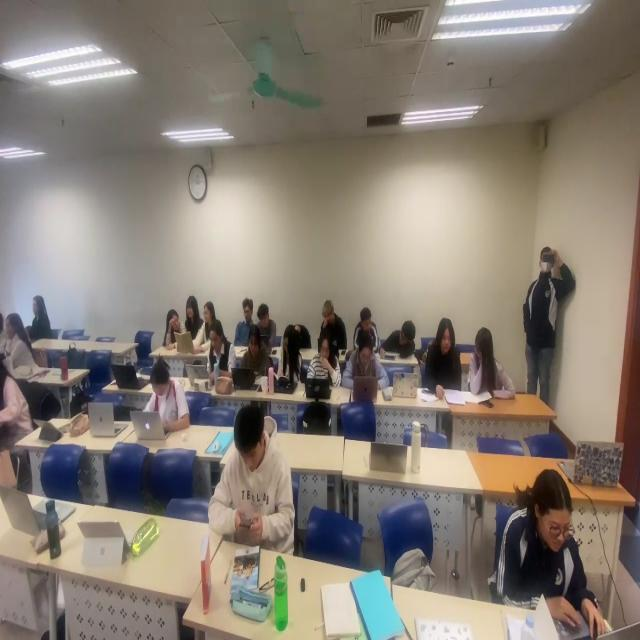read: (269, 322, 304, 393), (174, 295, 206, 359)
sleep: (283, 322, 313, 353)
stand: (519, 239, 577, 418)
using_computer: (487, 463, 637, 640), (123, 354, 196, 456), (181, 317, 239, 391), (342, 335, 391, 409), (302, 330, 346, 408), (230, 323, 273, 394), (174, 301, 219, 359), (253, 300, 280, 356)
using_phone: (204, 398, 302, 565)
